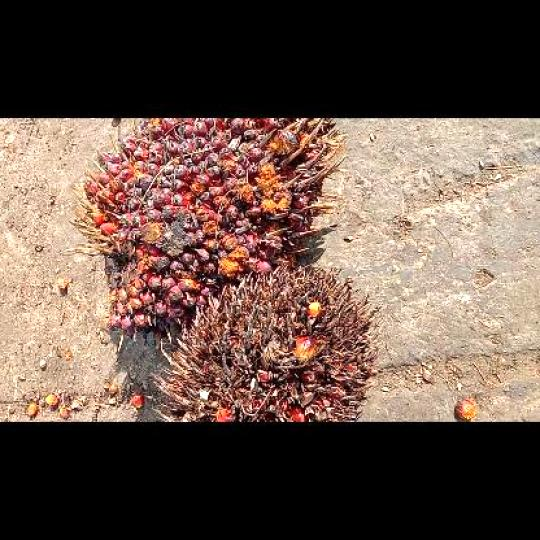masak: (68, 118, 342, 342)
terlalu masak: (156, 263, 376, 420)
